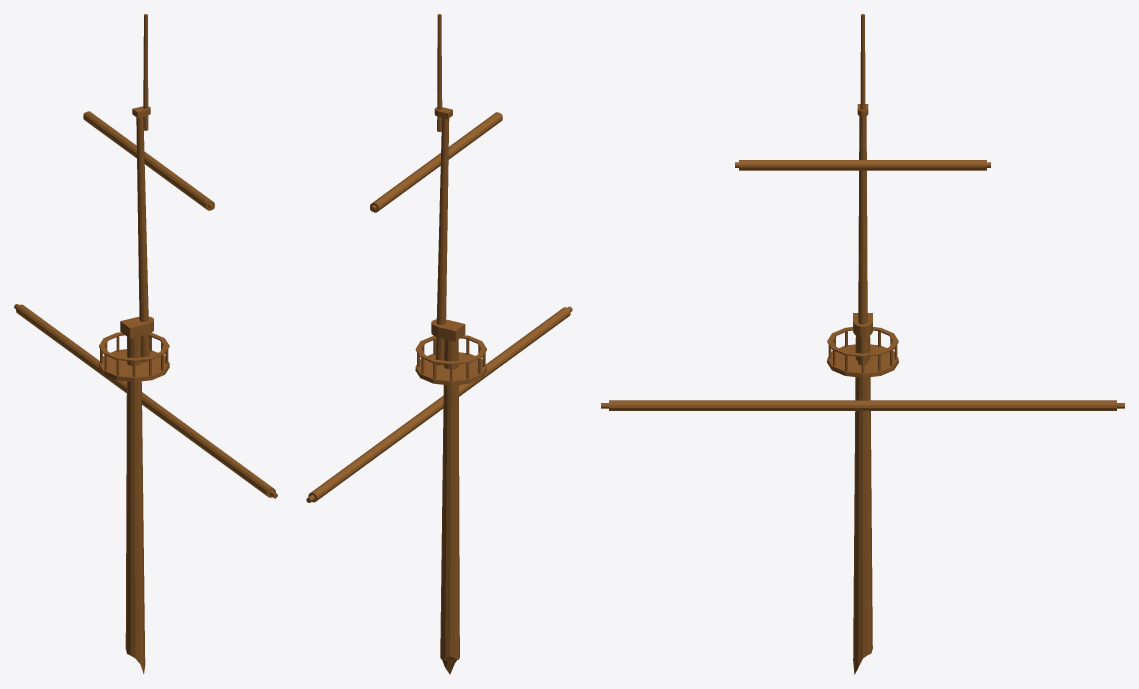
The model's file is Pole 3.fbx.
The picture shows the model from 3 angles, left to right: view 1: azimuth 30°, elevation 25°; view 2: azimuth 150°, elevation 25°; view 3: azimuth 270°, elevation 25°; orthographic projection.
Visible parts, largest first — view 1: Cylinder; view 2: Cylinder; view 3: Cylinder.
Boxes of the visible parts, x1,y1,x2,y2 form: Cylinder: (14,14,277,674); Cylinder: (306,14,572,674); Cylinder: (601,14,1124,674).
Bounding box in the file's own units: 16.68 × 170 × 122.
